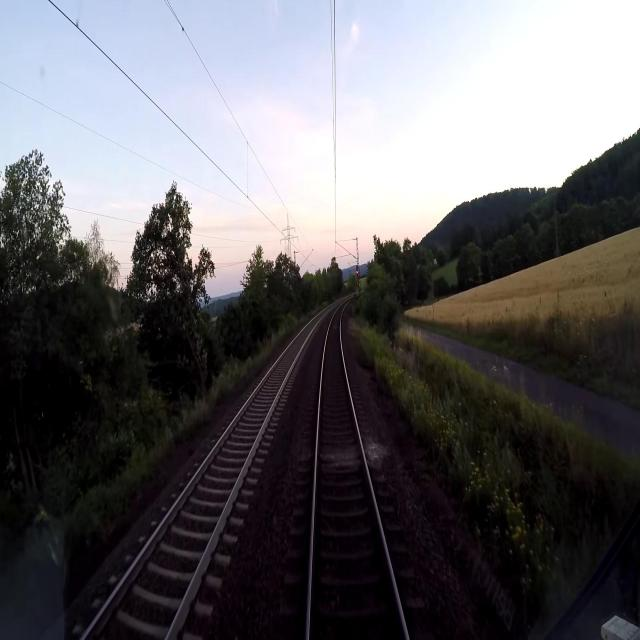rail-track: (86, 311, 324, 639), (310, 303, 404, 639)
